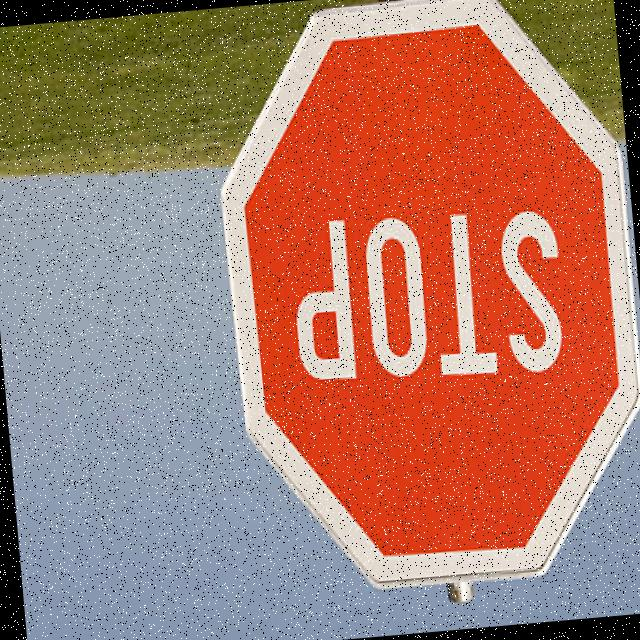stop: (199, 0, 640, 611)
